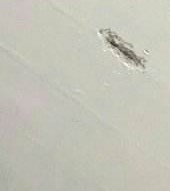Exposed reinforcement: (109, 41, 135, 61)
Spalling: (95, 27, 148, 71)
